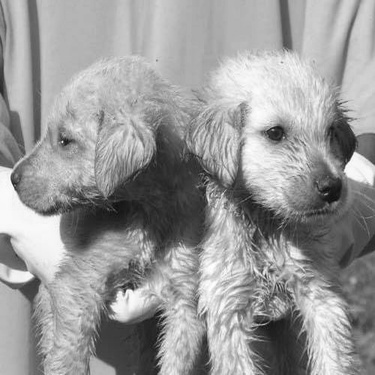dog: (7, 45, 213, 374), (180, 33, 372, 371)
